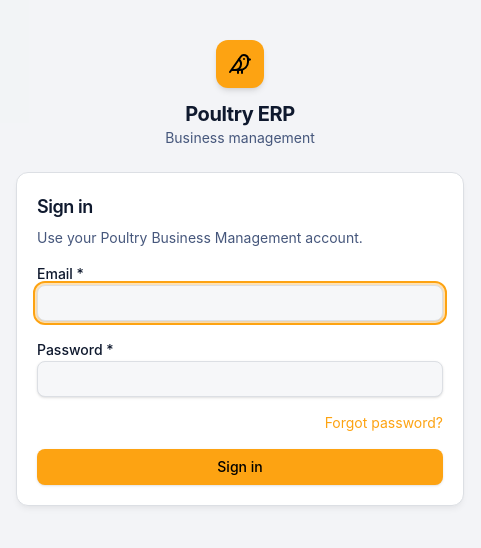
LoginPage › renders and validates the backend login fields
Check: the heading "Sign in" is shown, box [37, 196, 93, 217]
Click the button "Sign in". click: x=240, y=467
box: [37, 449, 443, 485]
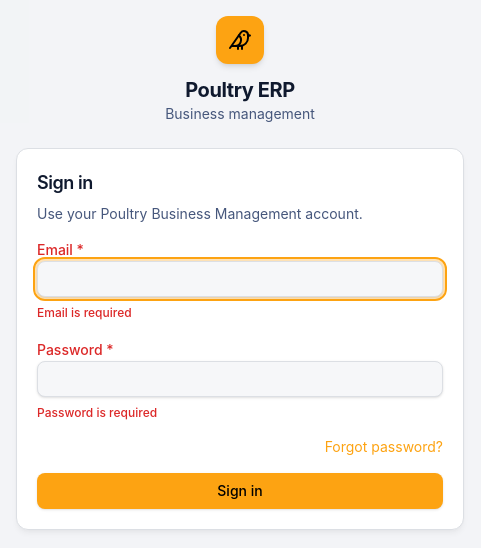
Check: the text "Email is required" is shown, box [37, 305, 132, 320]
Check: the text "Password is required" is shown, box [37, 405, 157, 420]
